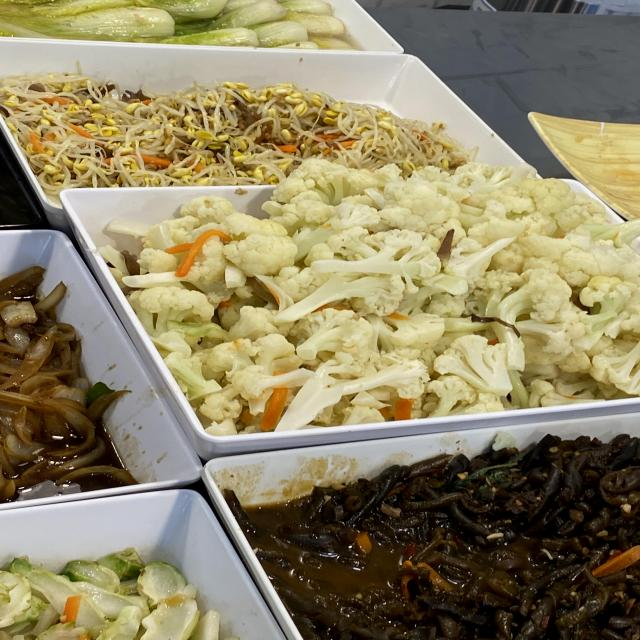cauliflower: (205, 210, 620, 389)
